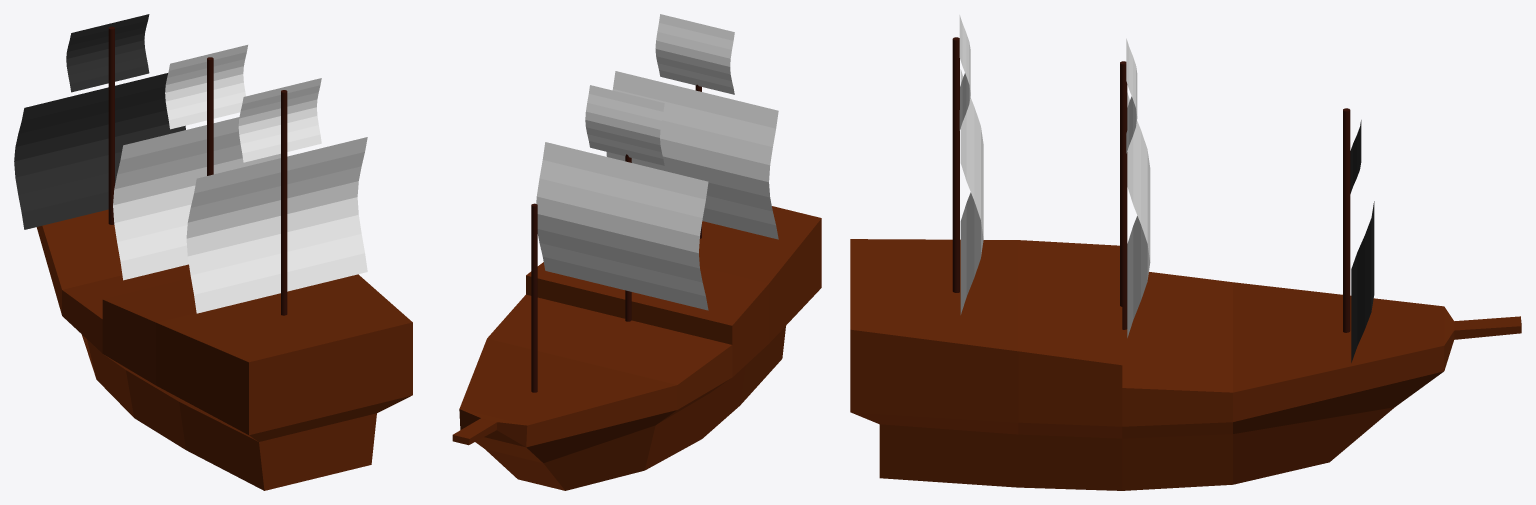
Rendered from boat.glb.
The picture shows the model from 3 angles, left to right: view 1: azimuth 30°, elevation 25°; view 2: azimuth 150°, elevation 25°; view 3: azimuth 270°, elevation 25°; orthographic projection. The views are drawn at different scales.
Parts seen in each view (by area): view 1: Hull, Sail.Back.Bottom, Sail.Front.Bottom, Sail.Middle.Bottom, Sail.Back.Top, Sail.Middle.Top, Sail.Front.Top, Mast.Back, Mast.Front, Mast.Middle; view 2: Hull, Sail.Middle.Bottom, Sail.Back.Bottom, Sail.Back.Top, Sail.Middle.Top, Mast.Front; view 3: Hull, Sail.Back.Bottom, Sail.Middle.Bottom, Sail.Front.Bottom, Mast.Middle, Mast.Back, Mast.Front, Sail.Back.Top, Sail.Middle.Top.
Part boxes in pixels (x1,y1,x2,y2): Hull: (36, 209, 412, 490); Sail.Back.Bottom: (186, 137, 367, 313); Sail.Front.Bottom: (14, 73, 185, 229); Sail.Middle.Bottom: (113, 117, 280, 280); Sail.Back.Top: (238, 78, 321, 162); Sail.Middle.Top: (165, 45, 247, 129); Sail.Front.Top: (66, 14, 149, 92); Mast.Back: (281, 90, 287, 315); Mast.Front: (108, 26, 114, 224); Mast.Middle: (207, 57, 213, 175); Hull: (452, 206, 821, 490); Sail.Middle.Bottom: (536, 142, 708, 310); Sail.Back.Bottom: (606, 71, 778, 239); Sail.Back.Top: (655, 14, 734, 94); Sail.Middle.Top: (585, 85, 664, 165); Mast.Front: (531, 203, 537, 392); Hull: (850, 239, 1521, 490); Sail.Back.Bottom: (960, 69, 983, 314); Sail.Middle.Bottom: (1127, 92, 1150, 337); Sail.Front.Bottom: (1351, 201, 1374, 362); Mast.Middle: (1120, 61, 1127, 329); Mast.Back: (952, 37, 959, 292); Mast.Front: (1343, 108, 1350, 332); Sail.Back.Top: (959, 15, 970, 130); Sail.Middle.Top: (1126, 38, 1137, 153).
Size of the model in its own units: 2.02 by 3.26 by 4.8.
